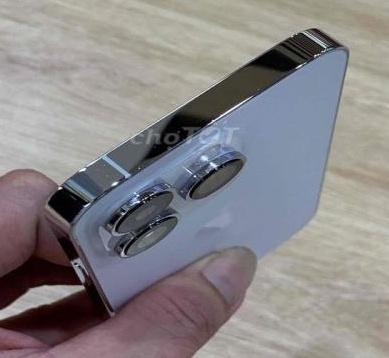scratch: (92, 156, 116, 186), (253, 83, 263, 100), (134, 162, 147, 172)
